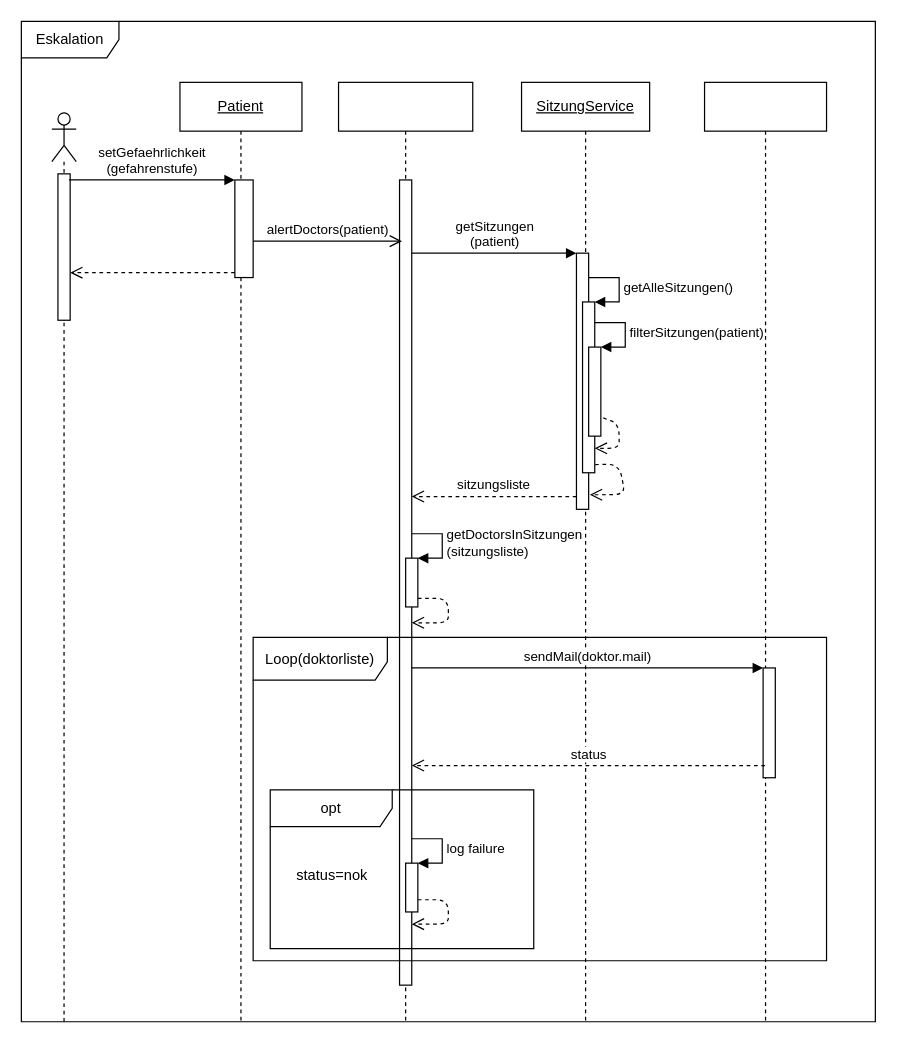
Some shapes in this 897 by 1043 pixel diagram are drawn without their labels. Here are the shapes that lost their labels. From the top down, the box of each, then its label:
(337, 81, 473, 1022): EskalationService
(703, 81, 827, 1022): MailClient
